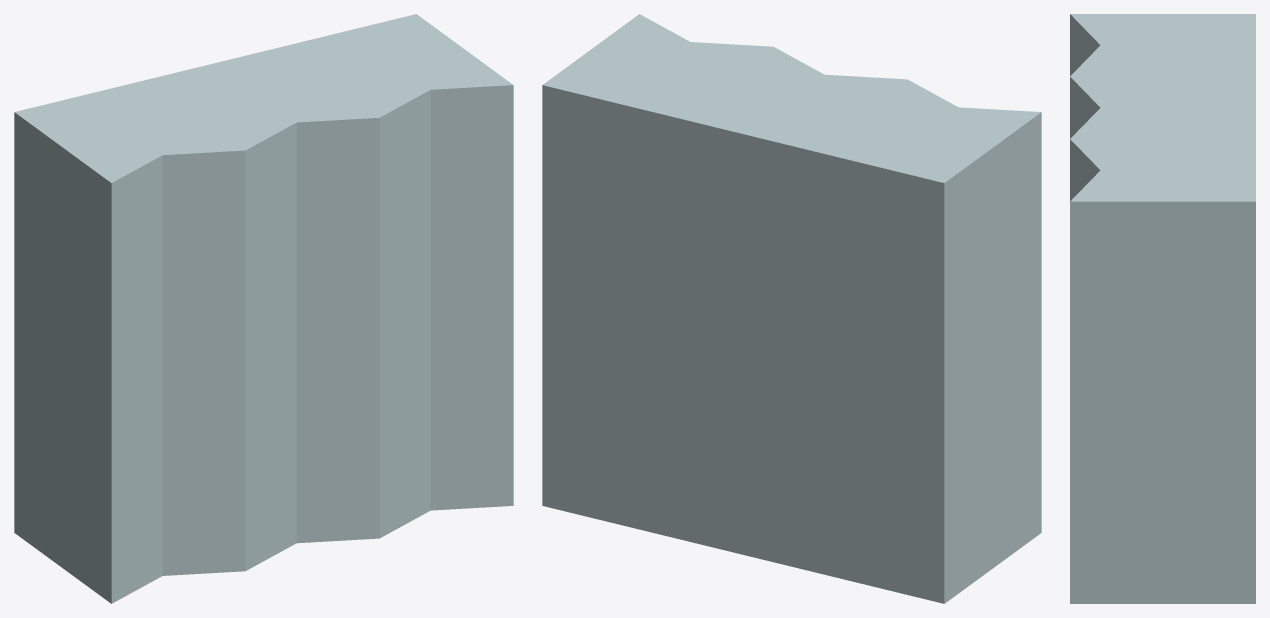
The model's file is cliff_large_stone.gltf.
The picture shows the model from 3 angles, left to right: view 1: azimuth 30°, elevation 25°; view 2: azimuth 150°, elevation 25°; view 3: azimuth 270°, elevation 25°; orthographic projection. The views are drawn at different scales.
Visible parts, largest first — view 1: cliff_large_stone; view 2: cliff_large_stone; view 3: cliff_large_stone.
Part boxes in pixels (x1,y1,x2,y2): cliff_large_stone: (14, 14, 513, 603); cliff_large_stone: (542, 14, 1041, 603); cliff_large_stone: (1070, 14, 1255, 603).
Size of the model in its own units: 1 by 1 by 0.4185.
